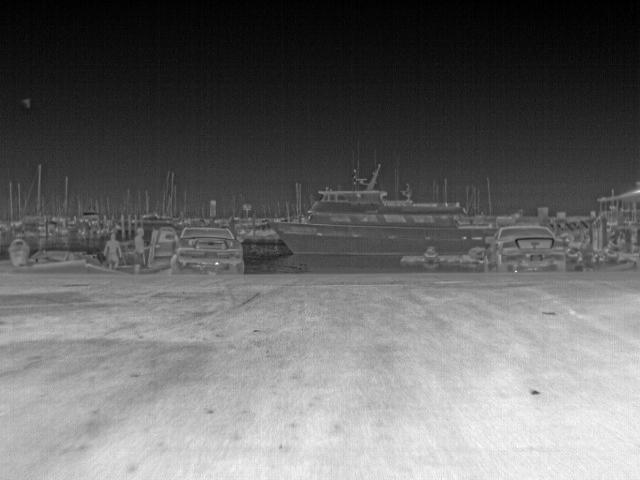car: (145, 224, 248, 275), (482, 223, 570, 272)
person: (131, 224, 148, 275), (104, 232, 123, 274)
